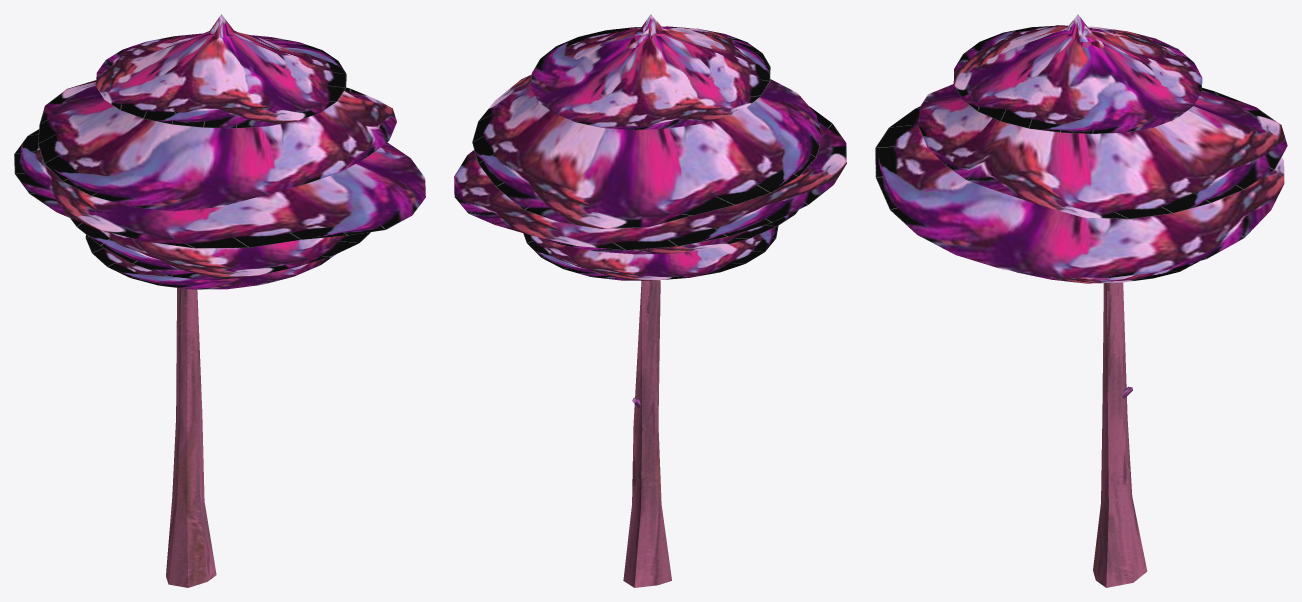
File: arbre2v3.fbx
The picture shows the model from 3 angles, left to right: view 1: azimuth 30°, elevation 25°; view 2: azimuth 150°, elevation 25°; view 3: azimuth 270°, elevation 25°; orthographic projection. The views are drawn at different scales.
Parts seen in each view (by area): view 1: arbre2v3; view 2: arbre2v3; view 3: arbre2v3.
Boxes of the visible parts, <box> form: arbre2v3: <box>14,14,425,587</box>; arbre2v3: <box>454,14,846,587</box>; arbre2v3: <box>875,14,1287,587</box>.
Size of the model in its own units: 12.41 by 19.12 by 12.55.
